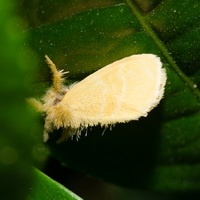insect: (32, 54, 166, 140)
